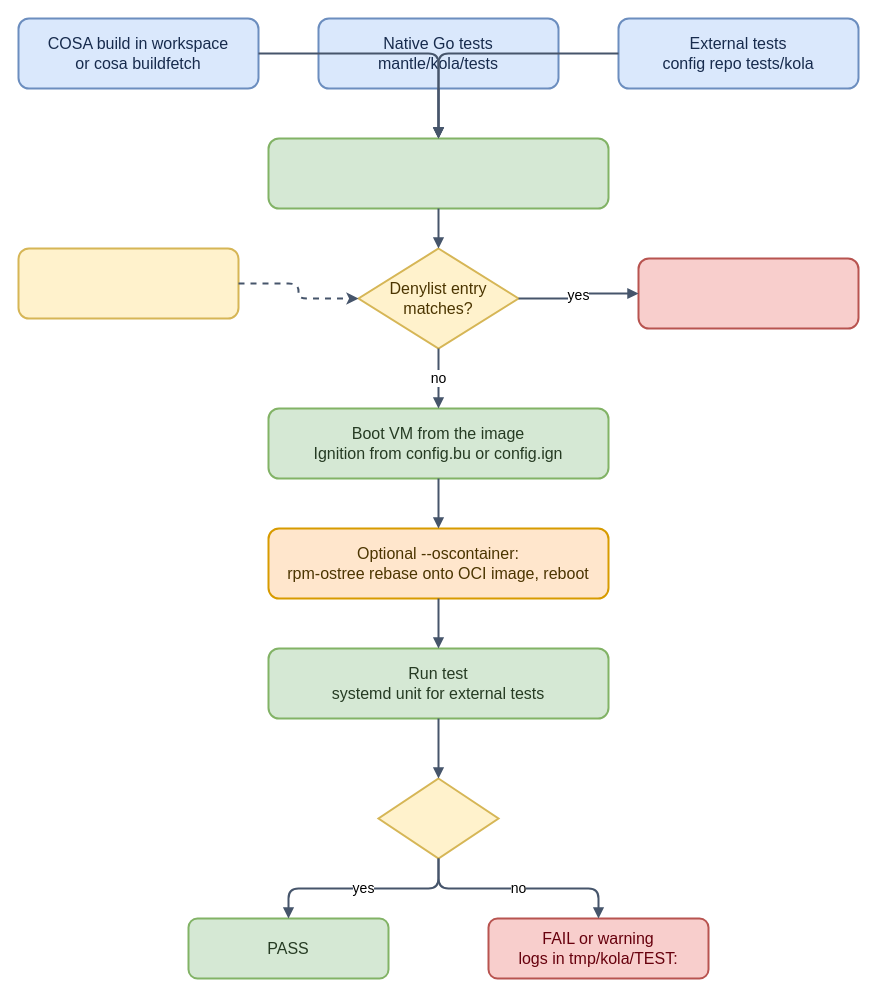
The diagram is 876 pixels wide and 996 high, and some of its shapes have lost their labels. The centre of each missing label's shape, as x and y in pixels:
kola run PATTERN --tag, --platform, arch, distro filters: pixel 438 173
kola-denylist.yaml scoped by stream, arch, platform: pixel 128 283
Pass?: pixel 438 818
Skipped until snooze date: pixel 748 293
